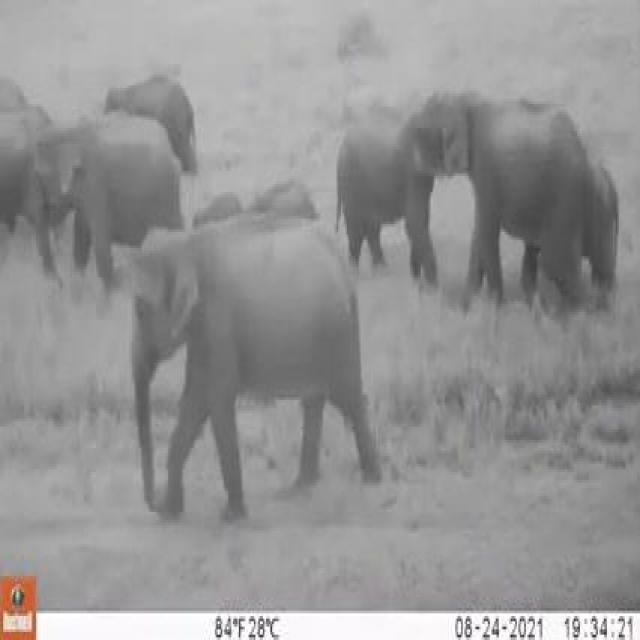Elephant: (126, 216, 364, 475), (422, 72, 594, 289), (332, 91, 444, 255), (43, 109, 183, 240), (113, 67, 209, 156)
